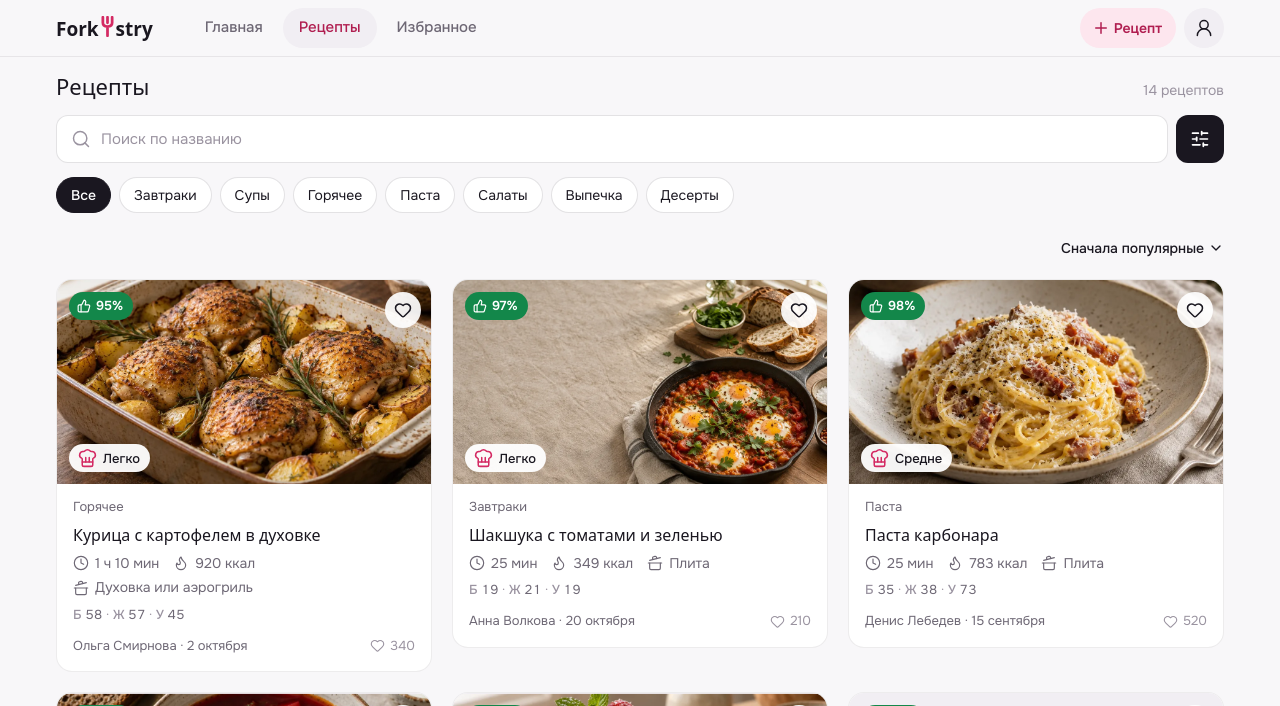
Test: каталог: загрузка, успех, пусто, ошибка › панель фильтров: выбор техники уходит в запрос к API
Expected: the text "14 рецептов" is shown, [1143,80,1224,100]
Click the button named "Фильтры". click: (1200, 138)
box: [1176,114,1224,162]
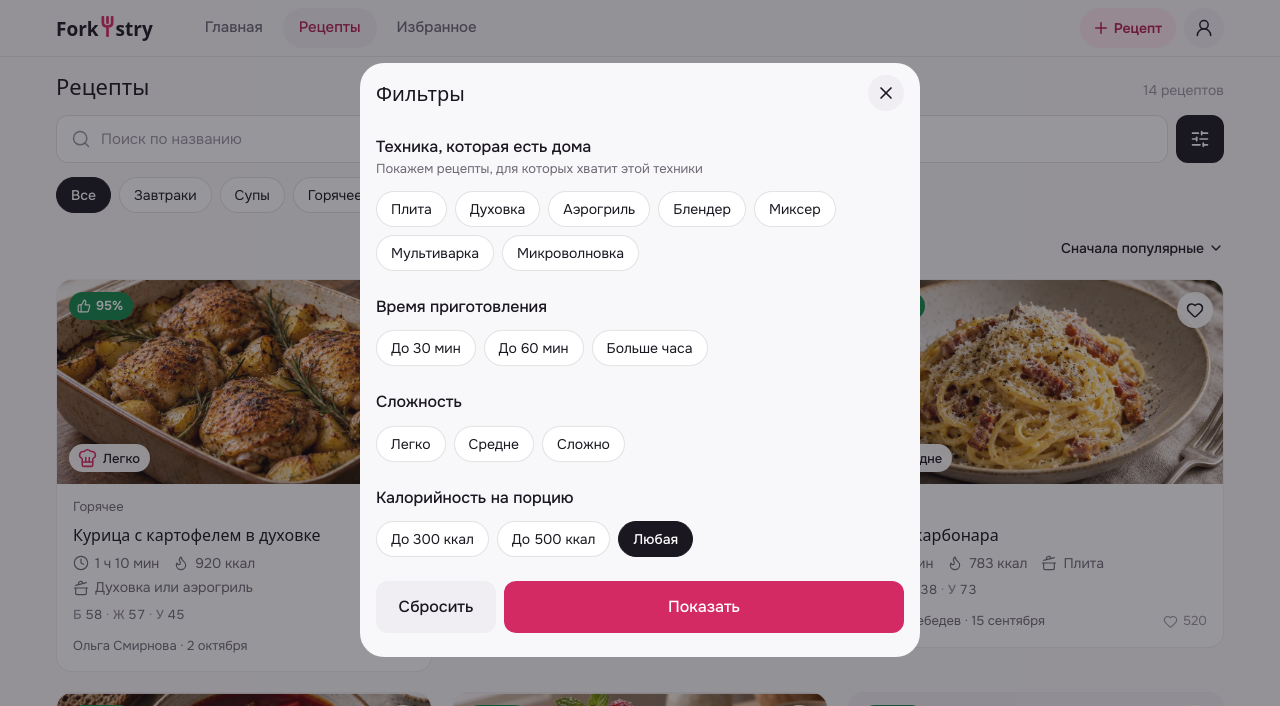
Click the button "Духовка". click: (498, 209)
box: [455,191,540,227]
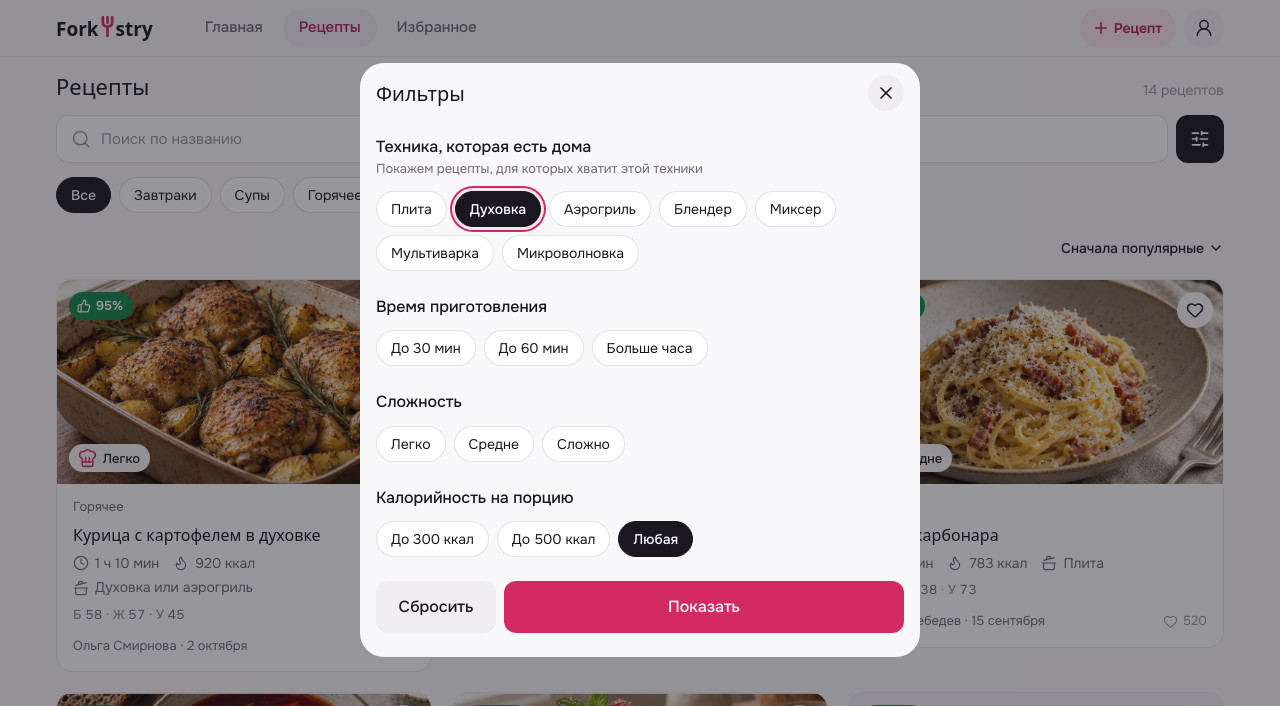
Click the button "Показать". click: (704, 607)
box: [504,581,904,633]
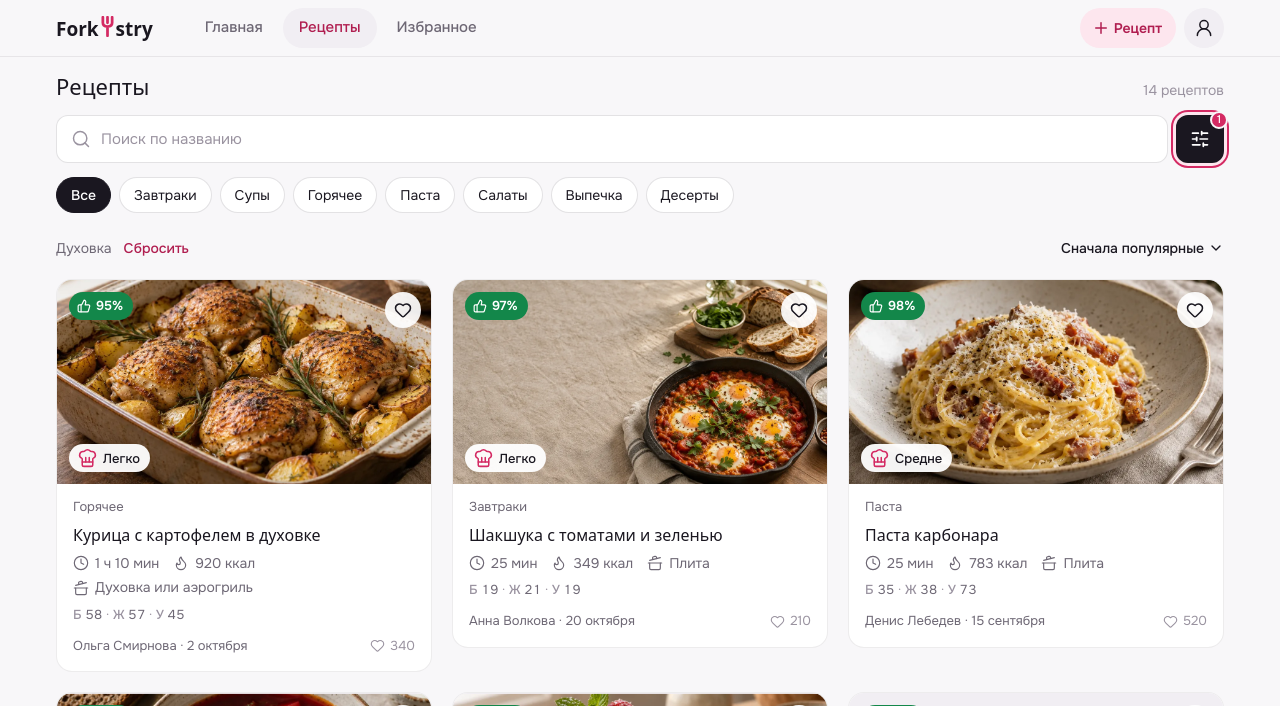
Expected: the dialog is gone
Expected: the button named "Фильтры, выбрано 1" is shown, [1176,114,1224,162]
